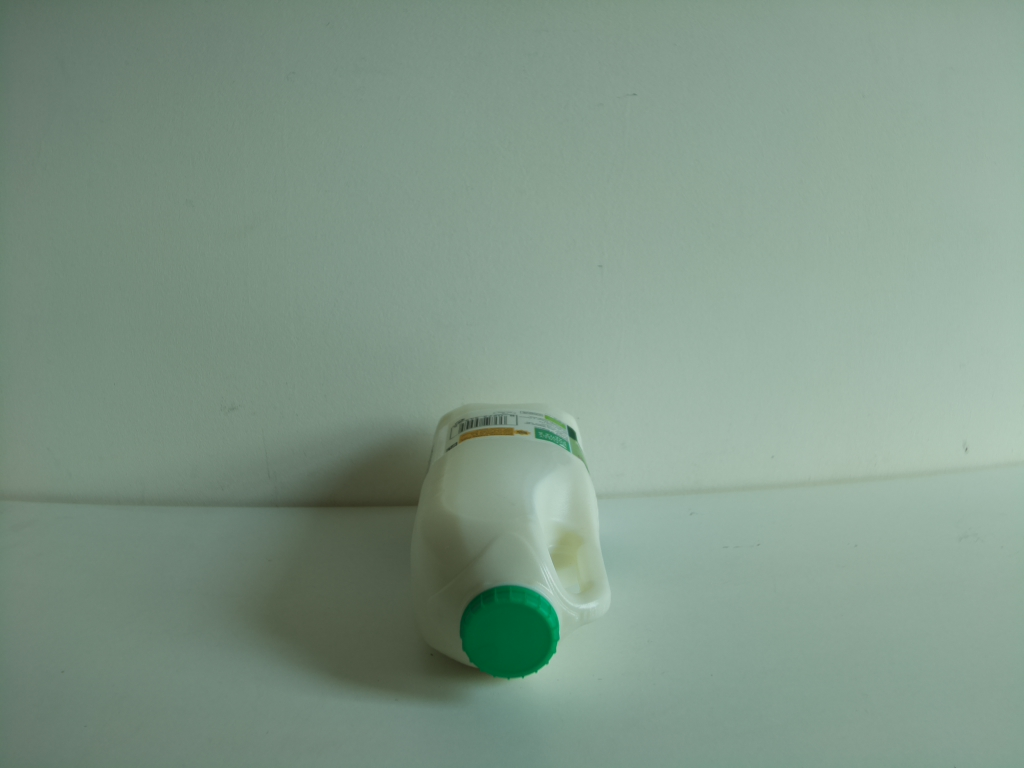milk: (398, 401, 612, 687)
